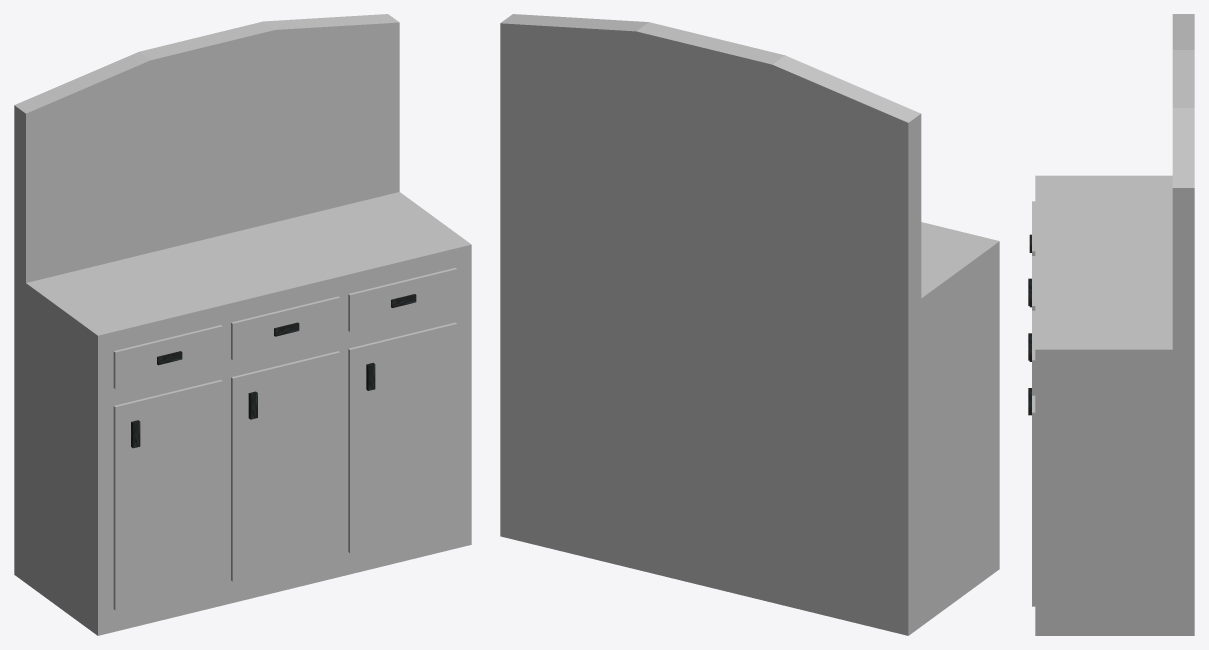
Rendered from cabinet.fbx.
3 views of the same model, side by side, from view 1: azimuth 30°, elevation 25°; view 2: azimuth 150°, elevation 25°; view 3: azimuth 270°, elevation 25° (orthographic). The views are drawn at different scales.
Parts seen in each view (by area): view 1: cabinet; view 2: cabinet; view 3: cabinet.
Boxes of the visible parts, x1,y1,x2,y2 form: cabinet: (14, 14, 471, 635); cabinet: (500, 14, 999, 635); cabinet: (1028, 14, 1194, 635).
Bounding box in the file's own units: 390 × 491 × 158.
